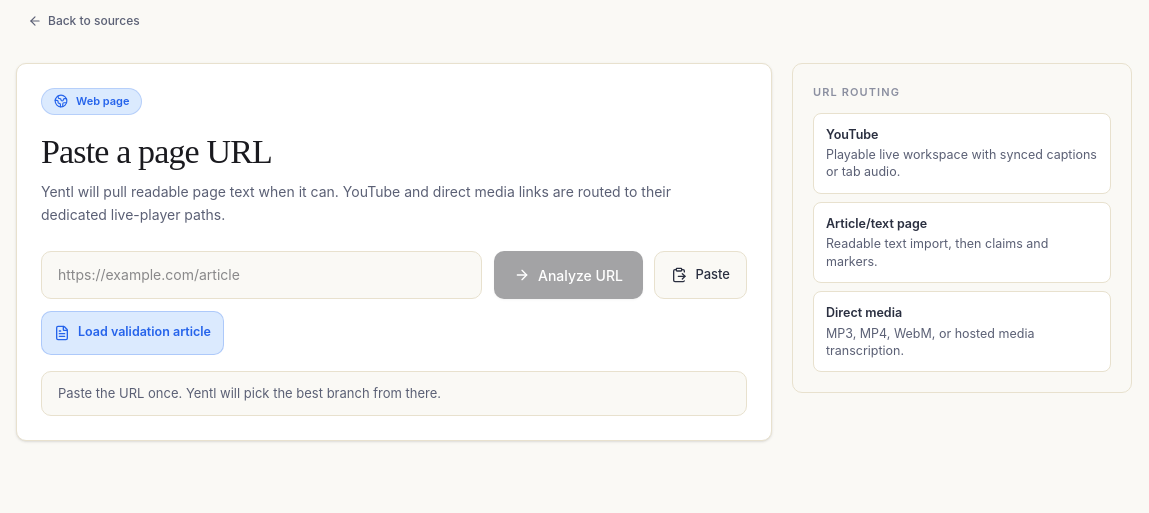
Test: WebUrlIngestPane › pastes the first copied URL into the article URL field
Click the button with aria-label "Paste URL from clipboard": (701, 274) [654,250,747,298]
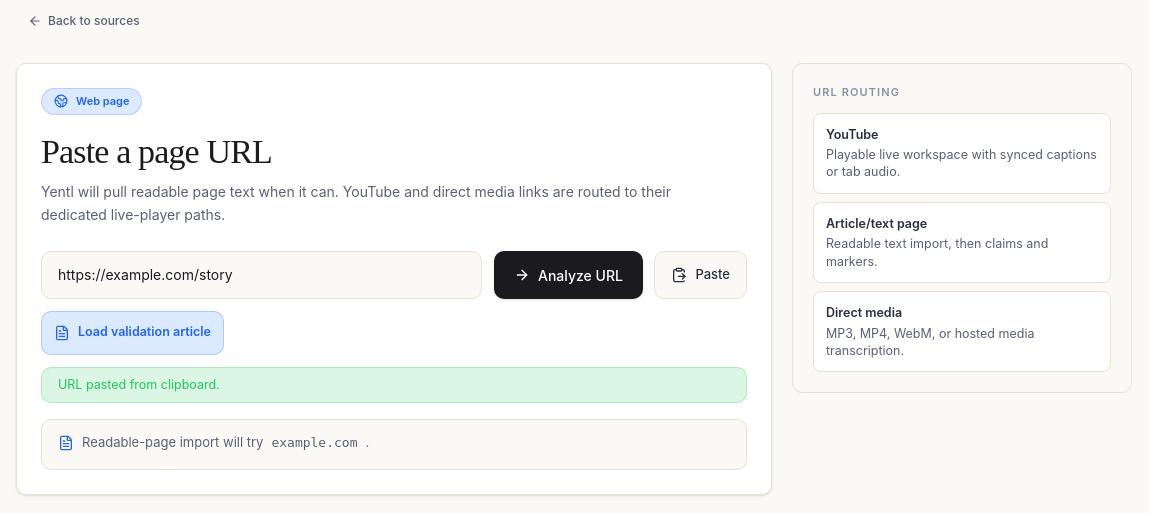
Expected: the field named "Web page URL" holds "https://example.com/story", [41,250,482,298]
Expected: the text "URL pasted from clipboard." is shown, [41,366,747,403]
Expected: the button "Analyze URL" is enabled, [494,250,642,298]
